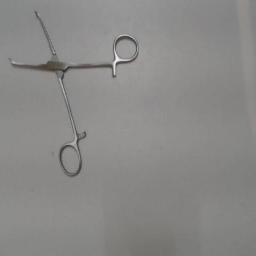Allis Tissue Forceps: (5, 3, 143, 185)
